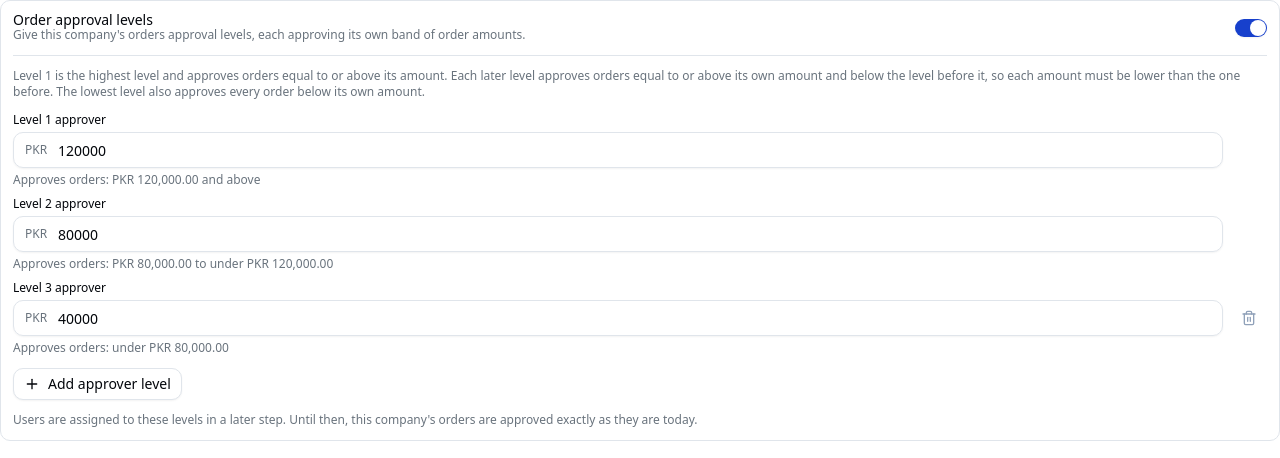
OrderApprovalLevelsFields › offers Remove on the last level only, and never on a lone Level 1
Click the button named "Remove level 3". click: x=1249, y=318
box: [1231,300,1267,336]
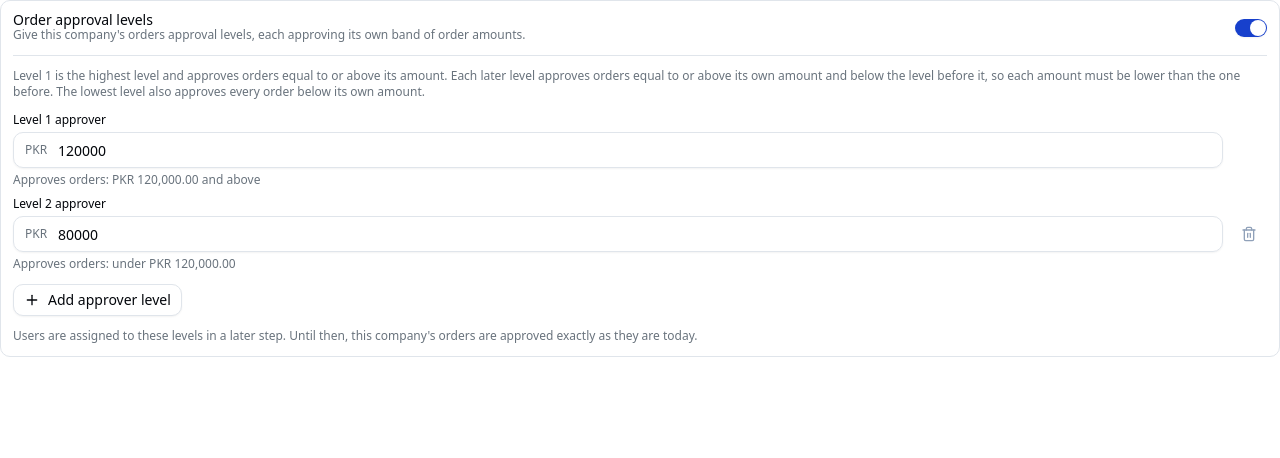
Check: the label labelled "Level 3 approver" is gone
Click the button named "Remove level 2". click: x=1249, y=234
box: [1231,216,1267,252]
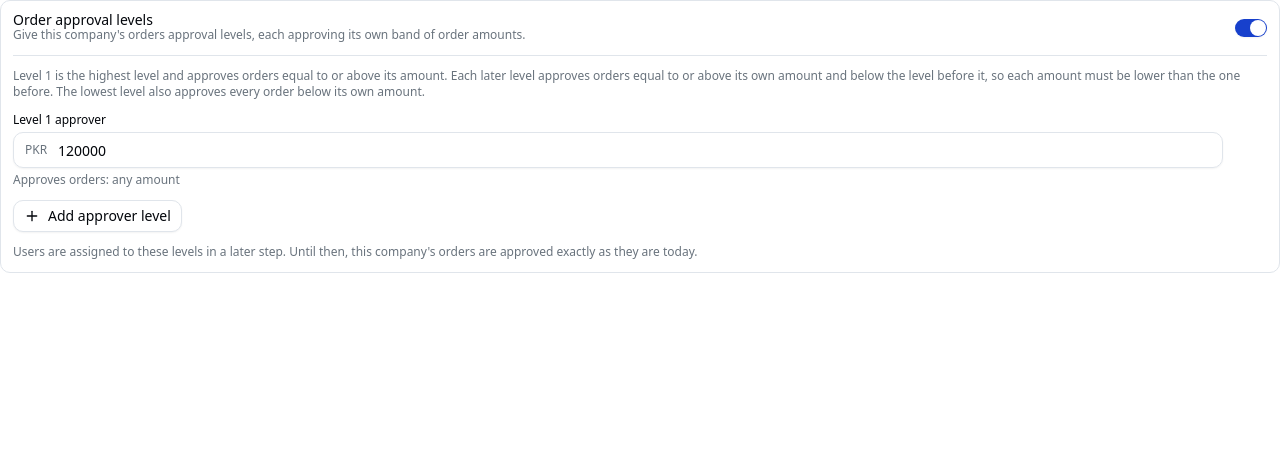
Check: the label labelled "Level 2 approver" is gone
